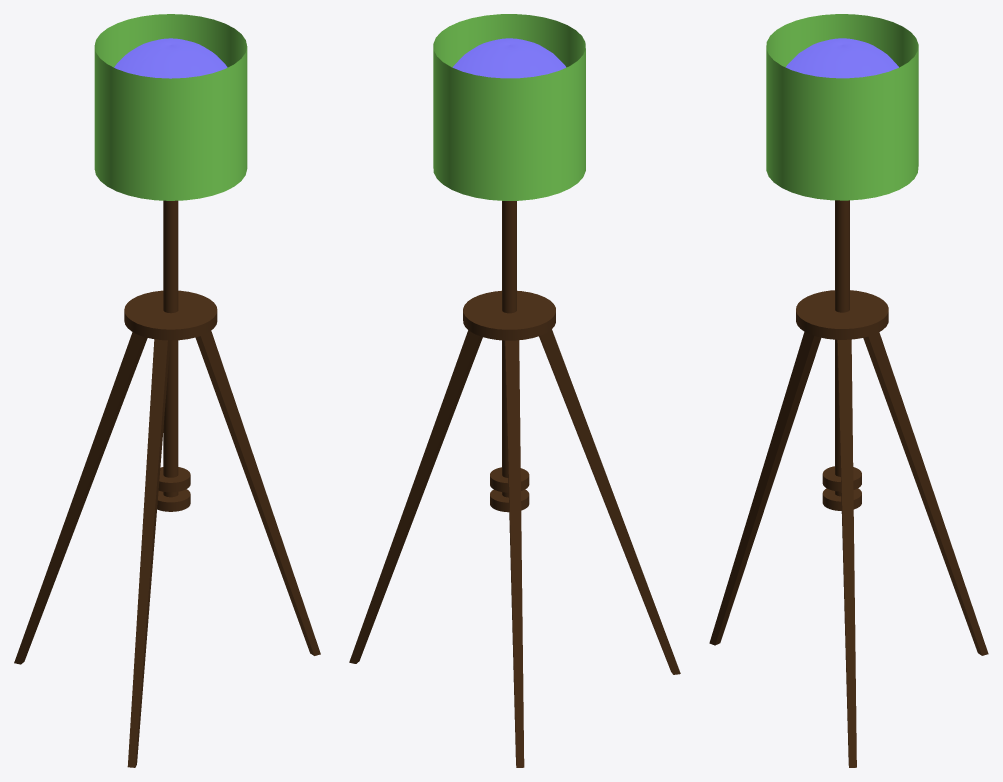
The model's file is lamp_flourishing.glb.
3 views of the same model, side by side, from view 1: azimuth 30°, elevation 25°; view 2: azimuth 150°, elevation 25°; view 3: azimuth 270°, elevation 25° (orthographic).
Visible parts, largest first — view 1: lamp_flourishing; view 2: lamp_flourishing; view 3: lamp_flourishing.
Part boxes in pixels (left/top/right/bottom): lamp_flourishing: left=14, top=14, right=320, bottom=767; lamp_flourishing: left=349, top=14, right=680, bottom=767; lamp_flourishing: left=709, top=14, right=988, bottom=767.
Bounding box in the file's own units: 0.8739 × 2.08 × 0.8123.
